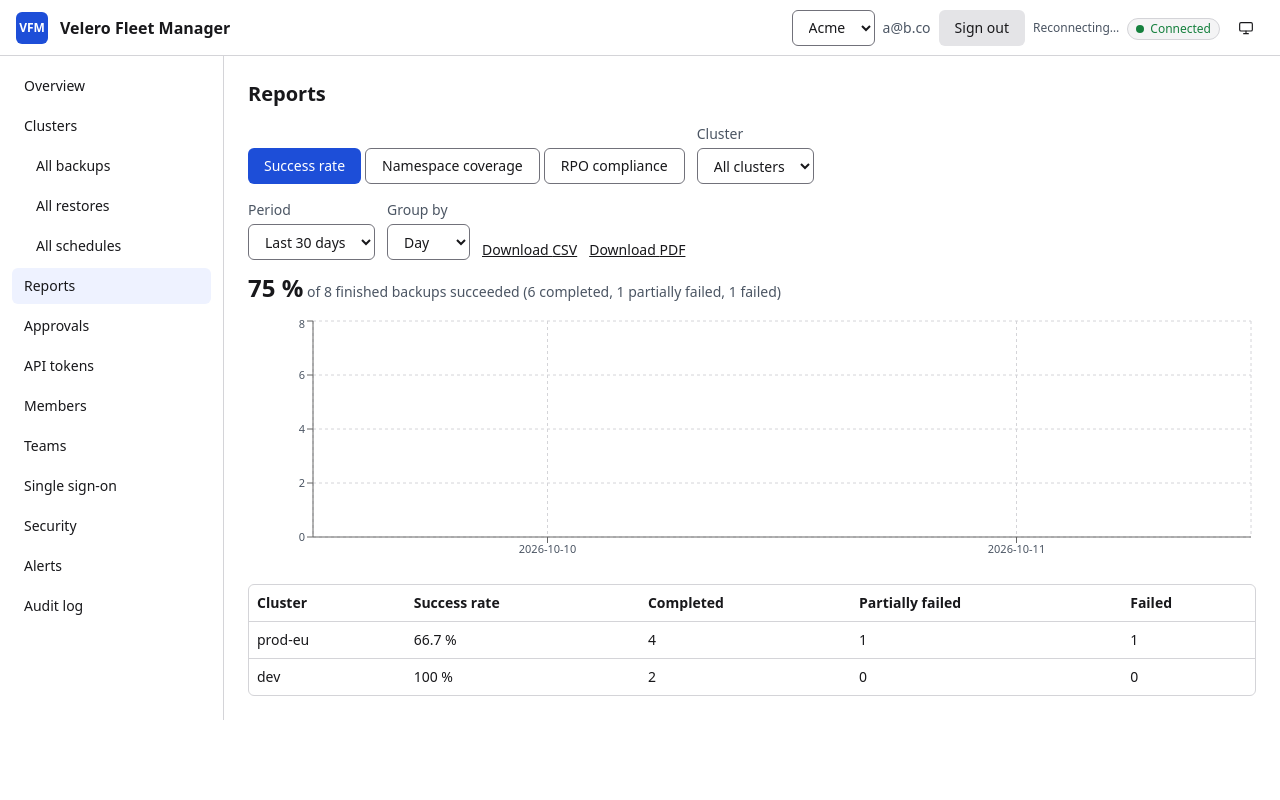
reports: RPO compliance › lists each schedule in the order the server gave, with its compliance and standing
Expected: the heading "Reports" is shown, x1=248 y1=80 x2=326 y2=107
Click the button "RPO compliance": (614, 166) x1=544 y1=148 x2=685 y2=184
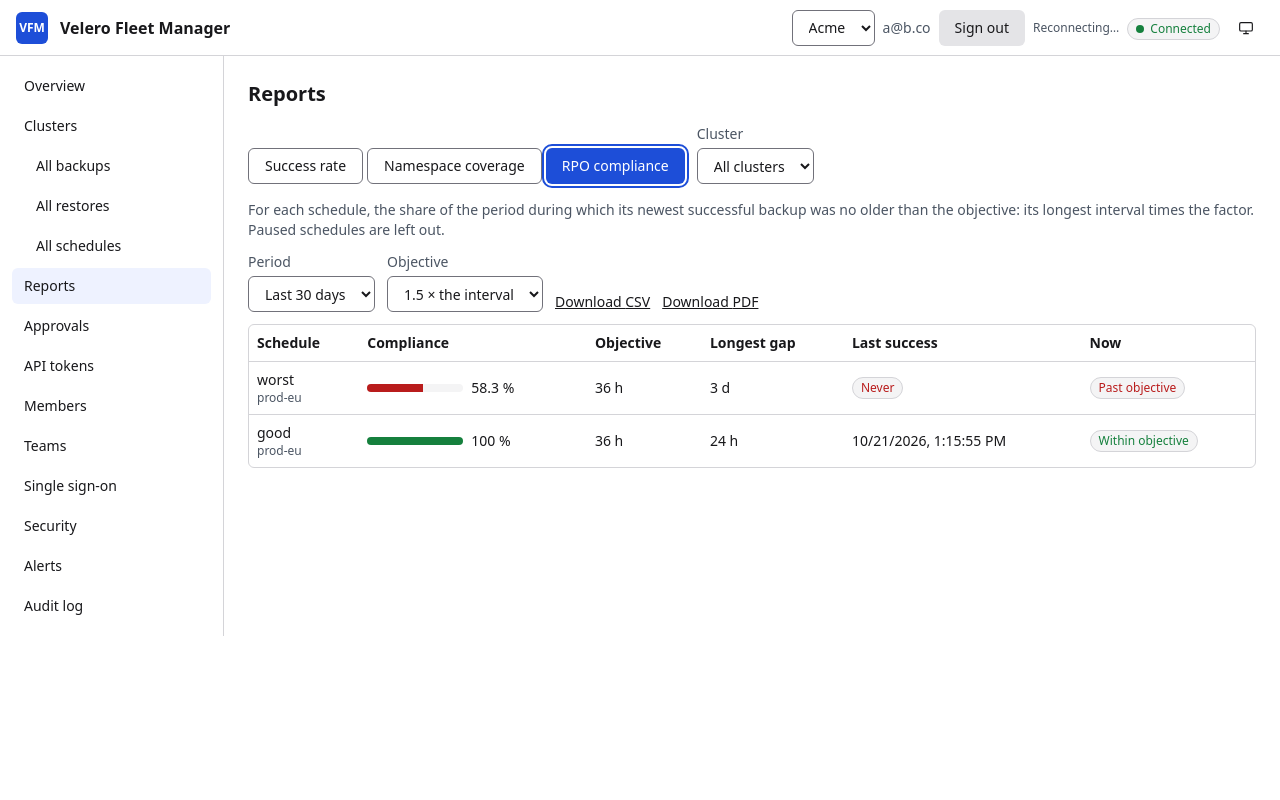
Expected: the text "58.3 %" is shown, x1=471 y1=378 x2=514 y2=398
Expected: the text "Past objective" is shown, x1=1090 y1=377 x2=1185 y2=399
Expected: the text "Never" is shown, x1=852 y1=377 x2=903 y2=399
